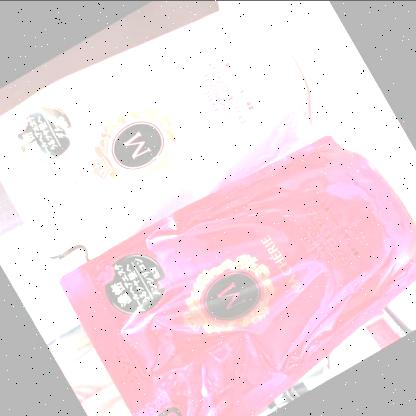Others: (59, 136, 415, 416), (0, 2, 315, 276)
